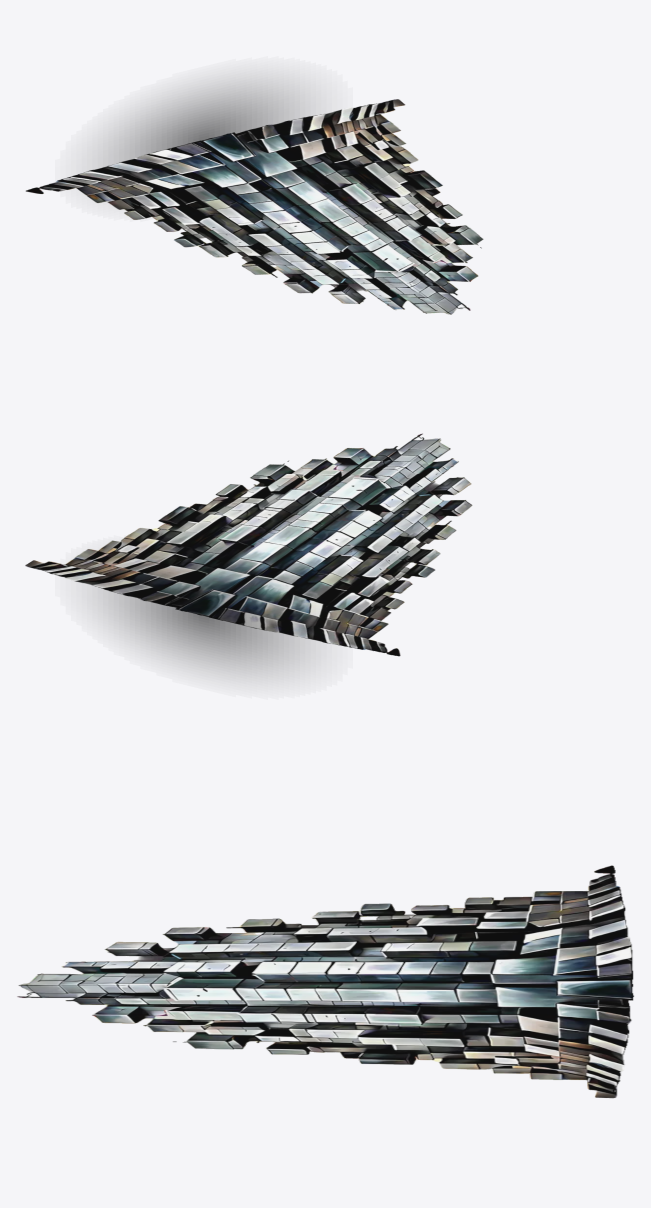
File: boss-ekran.glb
3 views of the same model, one above another, from view 1: azimuth 30°, elevation 25°; view 2: azimuth 150°, elevation 25°; view 3: azimuth 270°, elevation 25° (orthographic). The views are drawn at different scales.
Parts seen in each view (by area): view 1: Body, Shadow; view 2: Body, Shadow; view 3: Body.
Part boxes in pixels (<box>): Body: <box>26,99,483,314</box>; Shadow: <box>103,82,305,166</box>; Body: <box>25,433,472,656</box>; Shadow: <box>103,560,305,673</box>; Body: <box>17,865,633,1098</box>.
Size of the model in its own units: 1 by 0.42 by 1.12.
2 materials, 2 textured.
